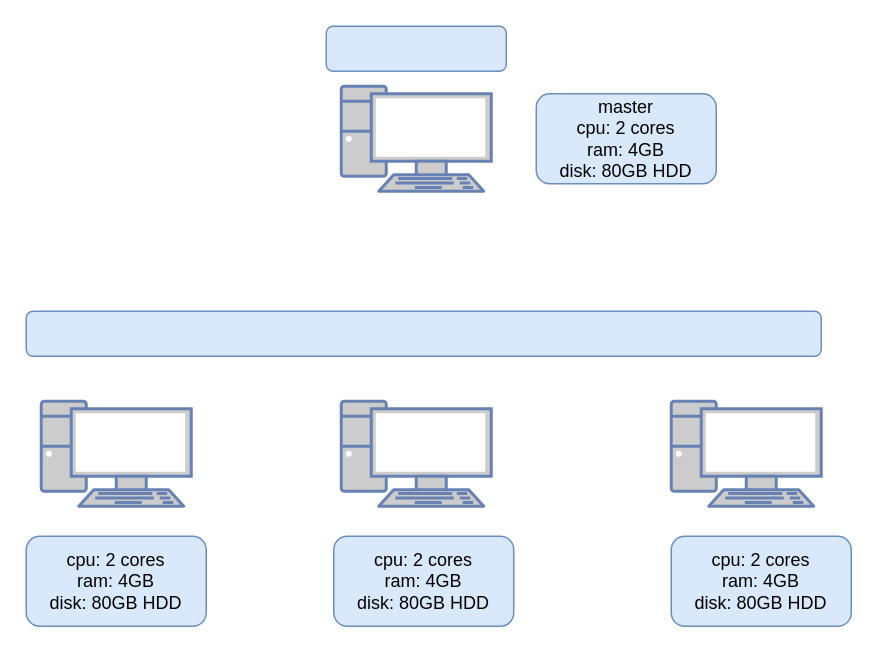
Some shapes in this 878 by 653 pixel diagram are drawn without their labels. Here are the shapes that lost their labels. From the top down, the centre of each, then its label:
At (415,48): "master".
At (423,333): "workers".
